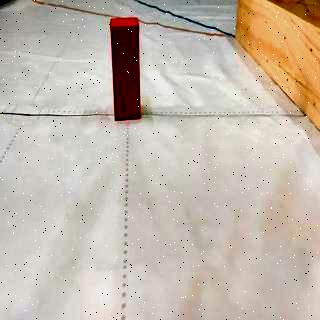redbox: (109, 16, 141, 121)
